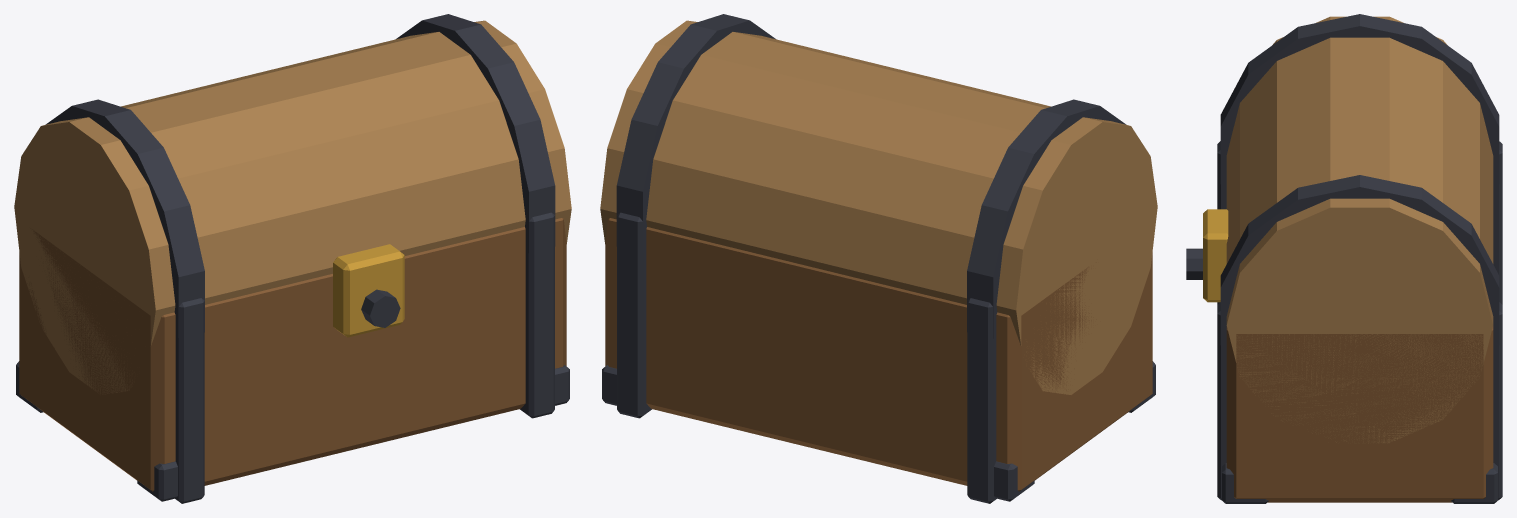
The model's file is chest.fbx.
3 renders of one model, left to right at view 1: azimuth 30°, elevation 25°; view 2: azimuth 150°, elevation 25°; view 3: azimuth 270°, elevation 25°, orthographic. The views are drawn at different scales.
Parts seen in each view (by area): view 1: chest; view 2: chest; view 3: chest.
Boxes of the visible parts, x1=… form: chest: x1=14, y1=14, x2=571, y2=503; chest: x1=600, y1=14, x2=1157, y2=503; chest: x1=1186, y1=14, x2=1502, y2=503.
Size of the model in its own units: 95 by 73 by 66.5.
